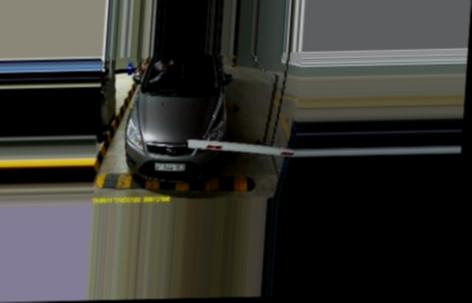License_Plate: (151, 159, 190, 173)
